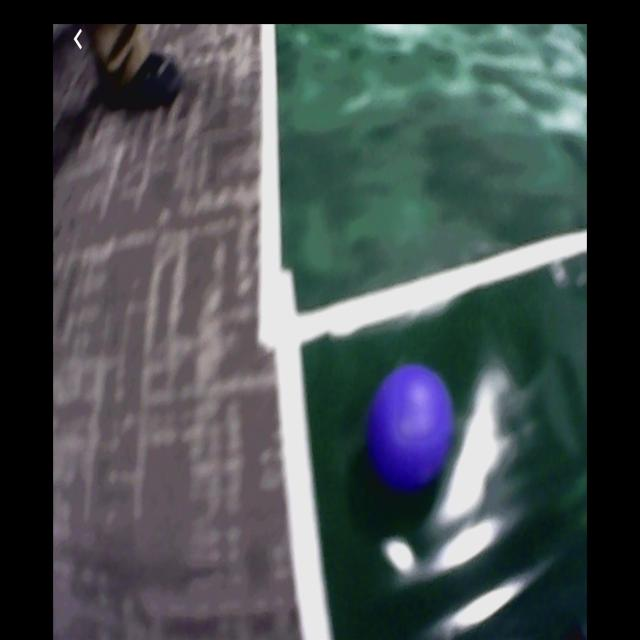ball: (369, 368, 453, 489)
